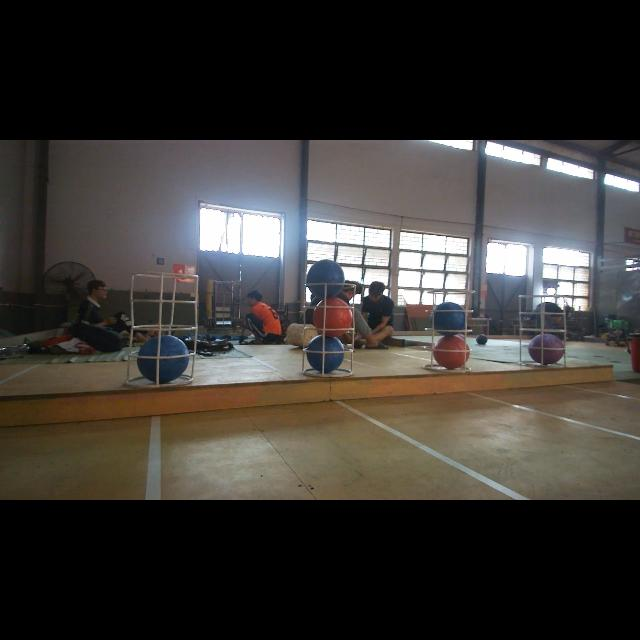B: (137, 333, 189, 382), (305, 334, 345, 376), (307, 258, 345, 298), (431, 300, 465, 334)
R: (312, 298, 356, 338), (434, 334, 468, 370)
